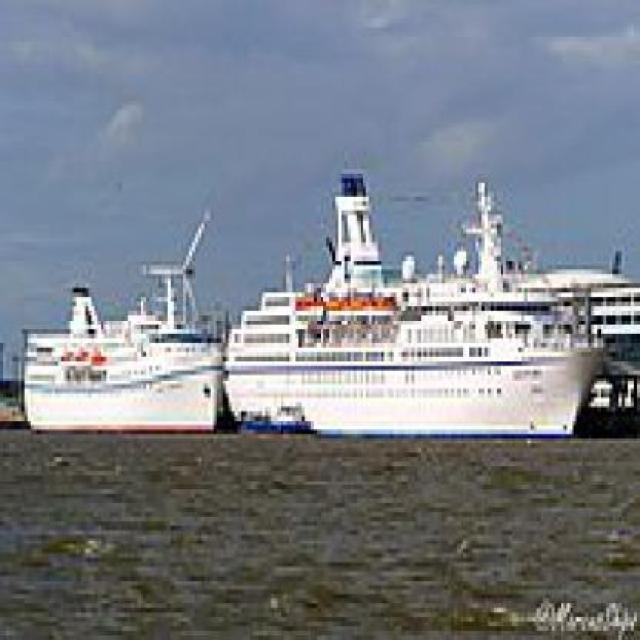cruise: (224, 156, 624, 458), (13, 257, 236, 445)
